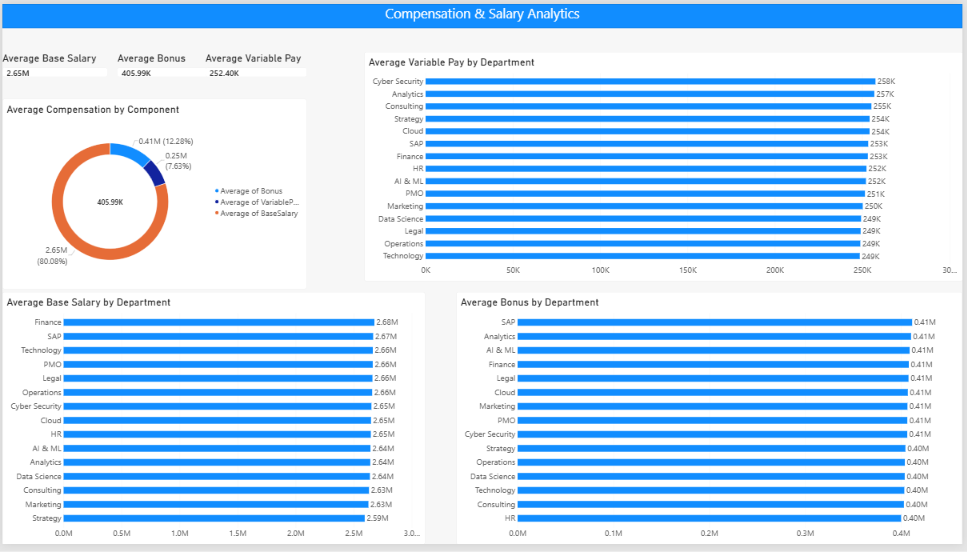

What the dashboard file says about the page in this screenshot:
{"tool":"powerbi","page":{"name":"Compensation & Salary Analytics","canvas":[3840,2160],"ordinal":3},"visuals":[{"type":"shape","box":[0,0,3840,96.7],"z":0},{"type":"textbox","box":[0,0,3840,96.7],"z":1},{"type":"cardVisual","title":"Average Base Salary","fields":{"Data":["Avg(FactCompensation.BaseSalary)"]},"box":[0,190,420,100],"z":2},{"type":"cardVisual","title":"Average Bonus","fields":{"Data":["Avg(FactCompensation.Bonus)"]},"box":[460,190,416.7,100],"z":3},{"type":"cardVisual","title":"Average Variable Pay","fields":{"Data":["Avg(FactCompensation.VariablePay)"]},"box":[810,190,406.7,100],"z":4},{"type":"donutChart","title":"Average Compensation by Component","fields":{"Y":["Avg(FactCompensation.Bonus)","Avg(FactCompensation.VariablePay)","Avg(FactCompensation.BaseSalary)"]},"box":[0,380,1216.7,760],"z":5},{"type":"clusteredBarChart","title":"Average Base Salary by Department","fields":{"Category":["DimDepartment.DepartmentName"],"Y":["Avg(FactCompensation.BaseSalary)"]},"box":[0,1150,1690,1010],"z":6},{"type":"clusteredBarChart","title":"Average Bonus by Department","fields":{"Category":["DimDepartment.DepartmentName"],"Y":["Avg(FactCompensation.Bonus)"]},"box":[1816.7,1150,2023.3,1010],"z":7},{"type":"clusteredBarChart","title":"Average Variable Pay by Department","fields":{"Category":["DimDepartment.DepartmentName"],"Y":["Avg(FactCompensation.VariablePay)"]},"box":[1446.7,190,2393.3,916.7],"z":8}]}

Visuals, with their boxes in screenshot pixels (x1, y1, x2, y2), scaled from the page's 3840x2160 canvas onto the 967x552 screenshot:
shape: left=0, top=0, right=966, bottom=25
textbox: left=0, top=0, right=966, bottom=25
"Average Base Salary" cardVisual: left=0, top=49, right=106, bottom=74
"Average Bonus" cardVisual: left=116, top=49, right=221, bottom=74
"Average Variable Pay" cardVisual: left=204, top=49, right=306, bottom=74
"Average Compensation by Component" donutChart: left=0, top=97, right=306, bottom=291
"Average Base Salary by Department" clusteredBarChart: left=0, top=294, right=426, bottom=551
"Average Bonus by Department" clusteredBarChart: left=457, top=294, right=966, bottom=551
"Average Variable Pay by Department" clusteredBarChart: left=364, top=49, right=966, bottom=283
